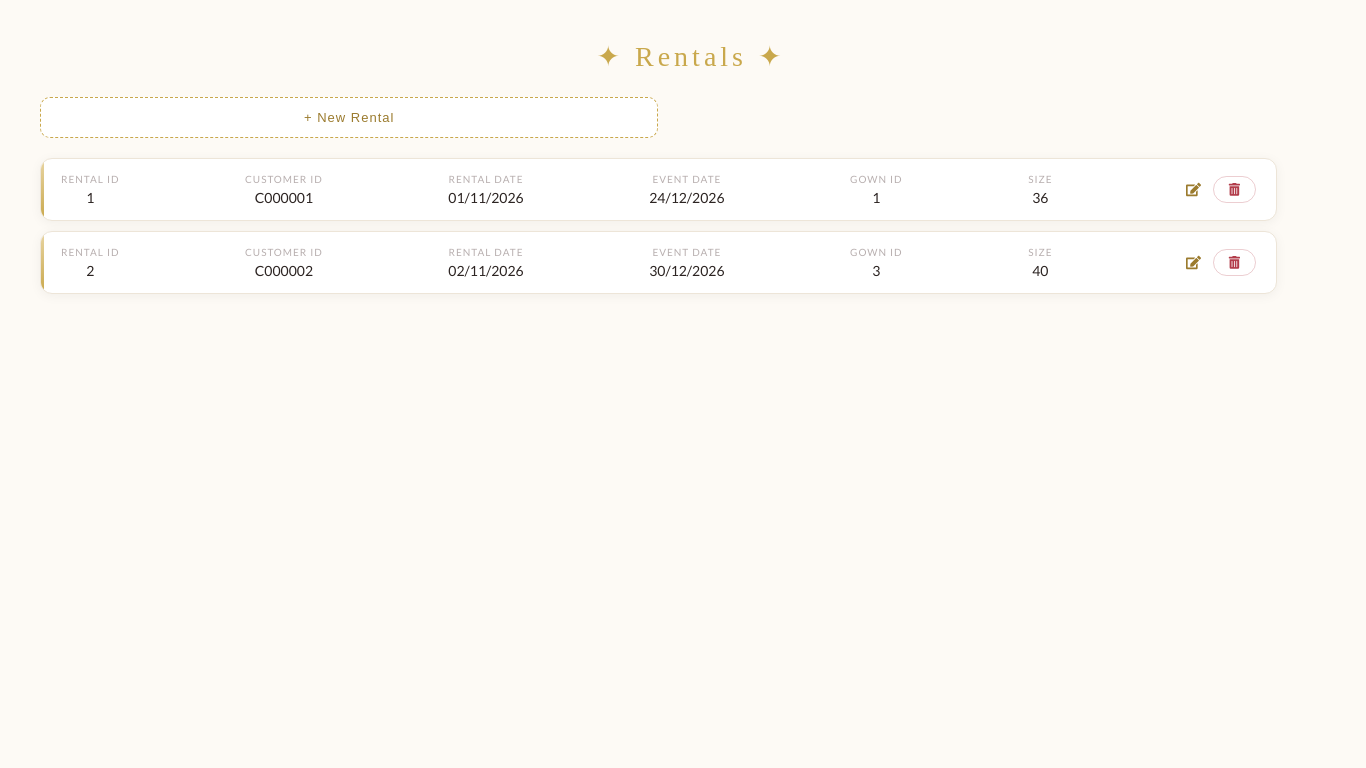
adding a rental › a refused rental (409) shows the reason and keeps everything that was typed
Expected: the text "C000001" is shown, [255,189,313,206]
Click the button "+ New Rental": (349, 118) [40,97,658,138]
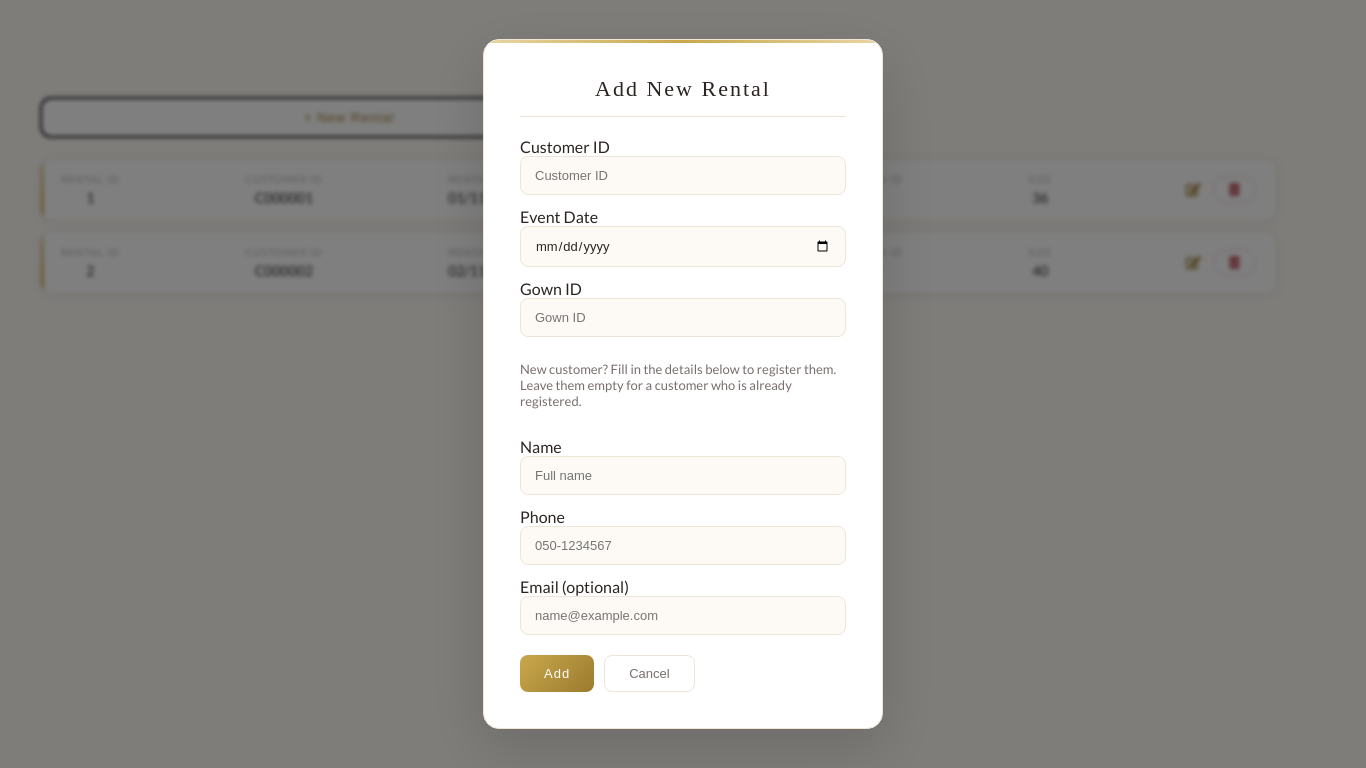
In the field labelled "Customer ID": (683, 176) [520,156,846,195], type "NEWBIE123"
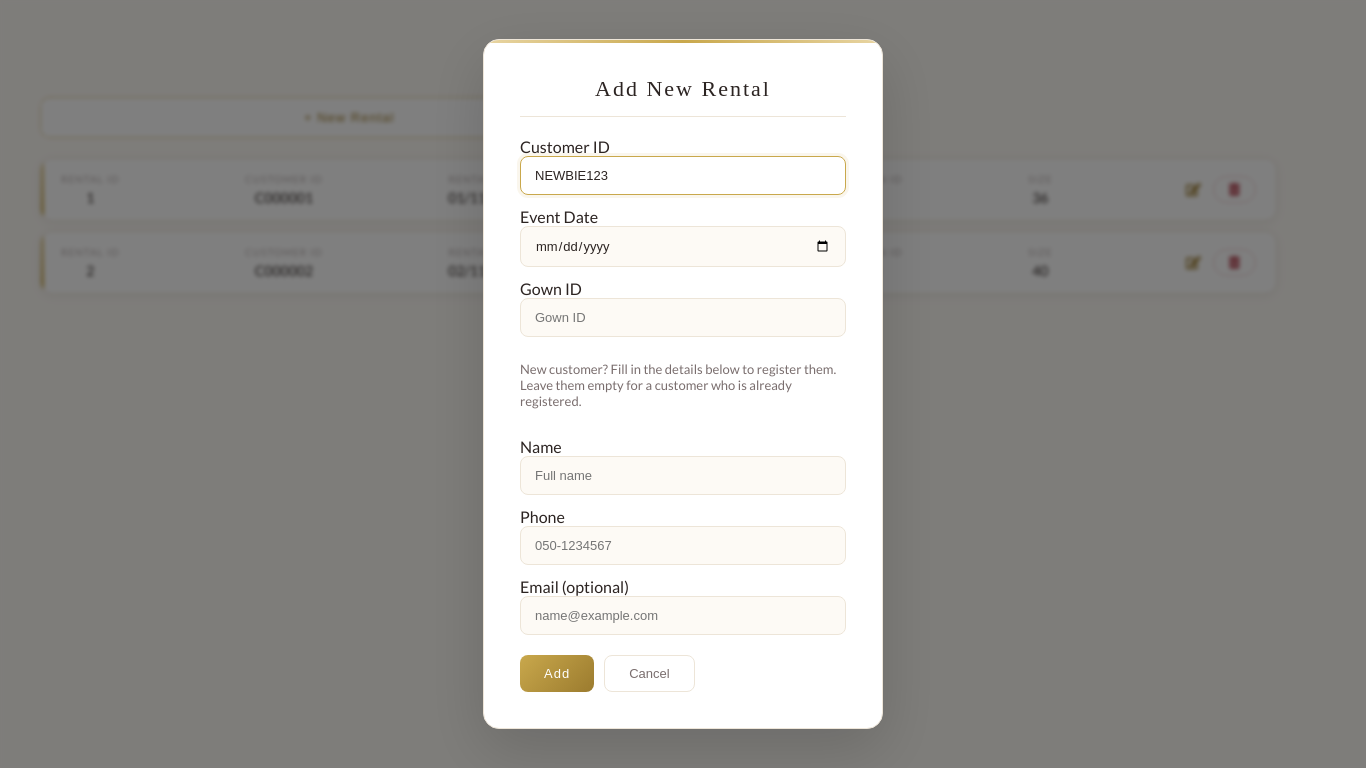
In the date field labelled "Event Date": (683, 246) [520,226,846,267], type "2027-03-05"
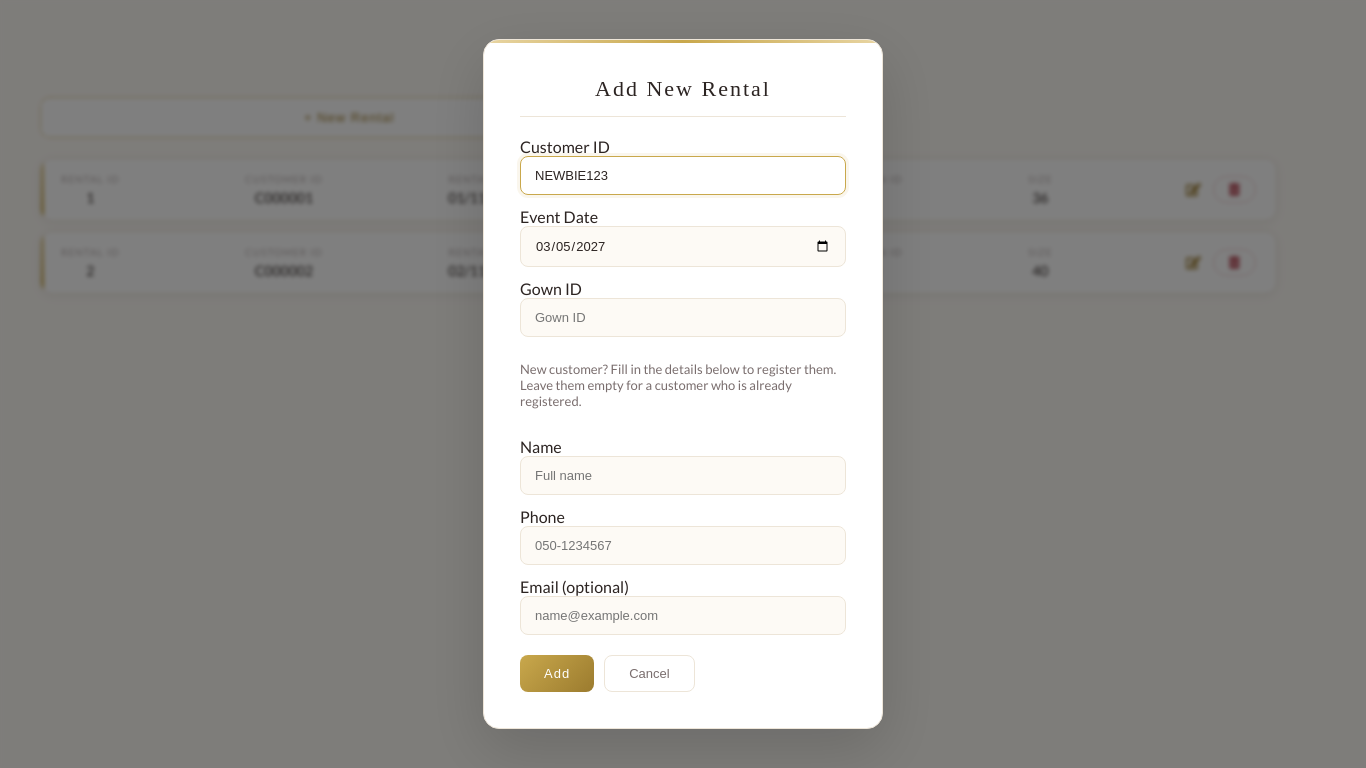
In the number field labelled "Gown ID": (683, 318) [520,298,846,337], type "21"
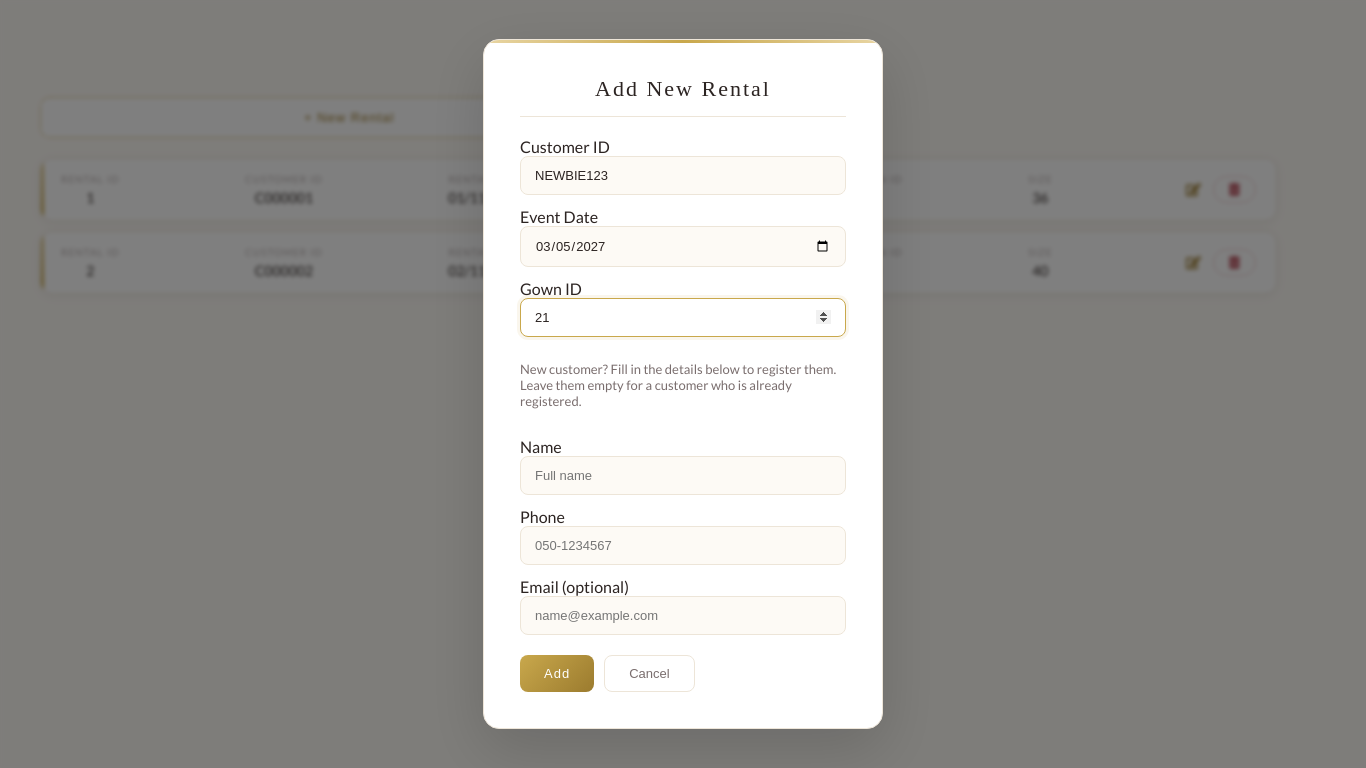
Click the button "Add": (557, 674) [520,655,594,692]
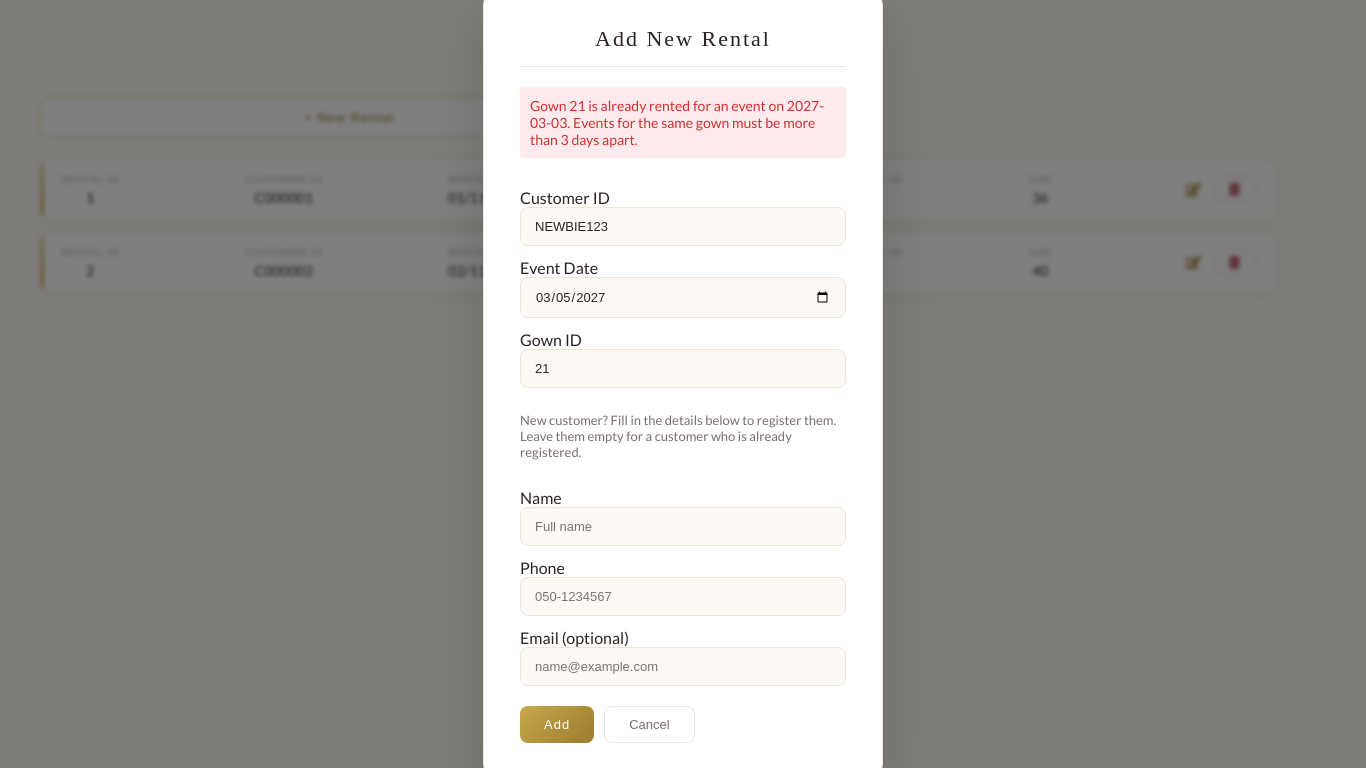
Result: the button "Add" is enabled at [520,706,594,742]
Result: the message shows "Gown 21 is already rented for an event on 2027-03-03. Events for the same gown must be more than 3 days apart." at [530,96,824,148]
